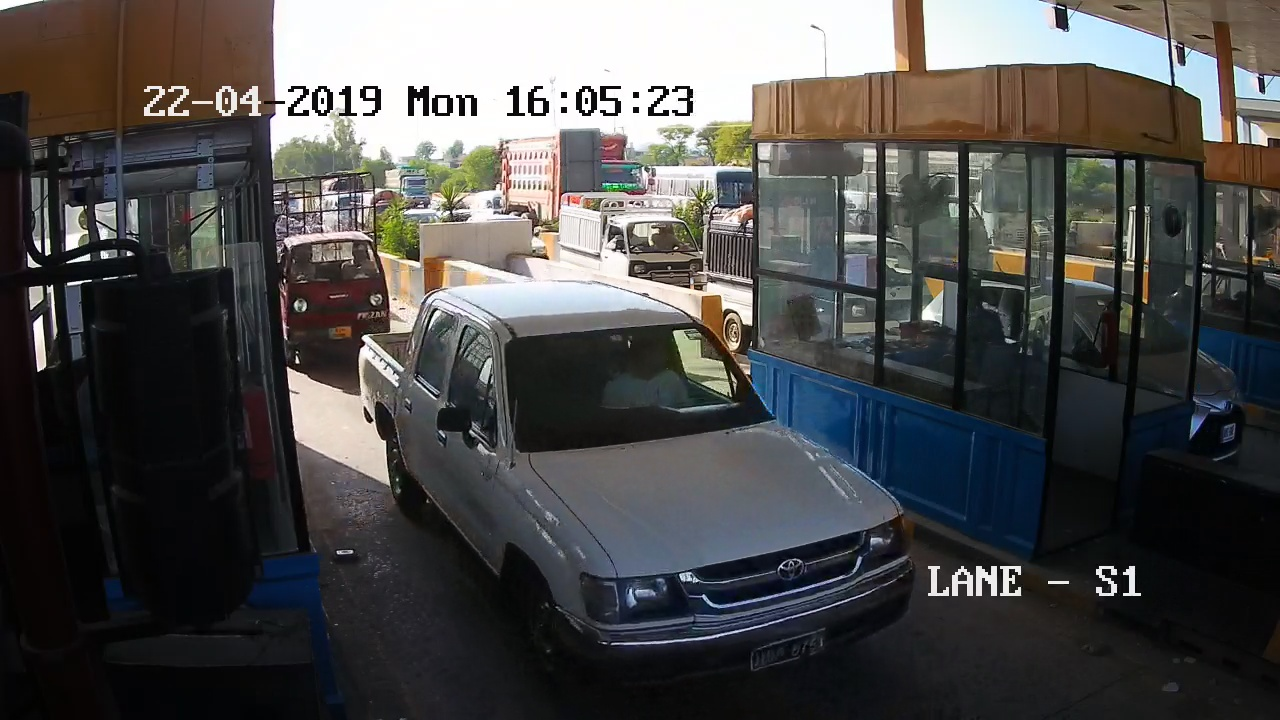Number Plate (Car): (749, 632, 831, 669), (328, 324, 353, 338)
